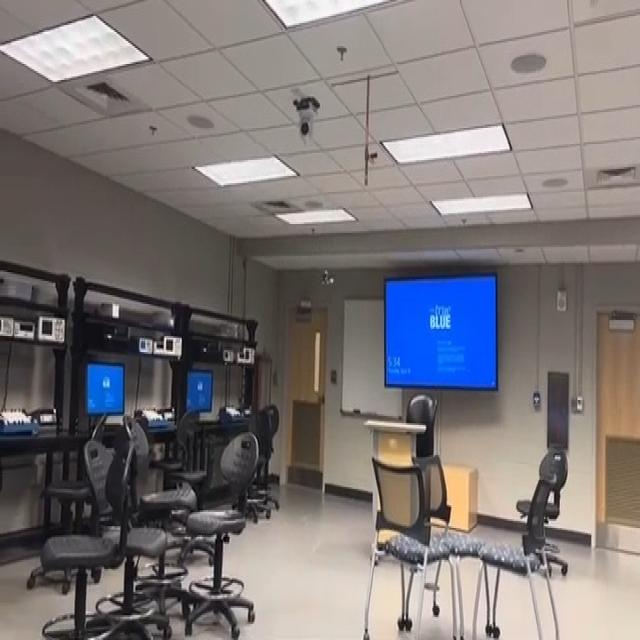drone: (314, 258, 343, 302)
